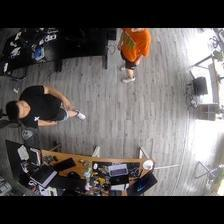normal: (6, 83, 85, 128), (117, 27, 151, 84)
